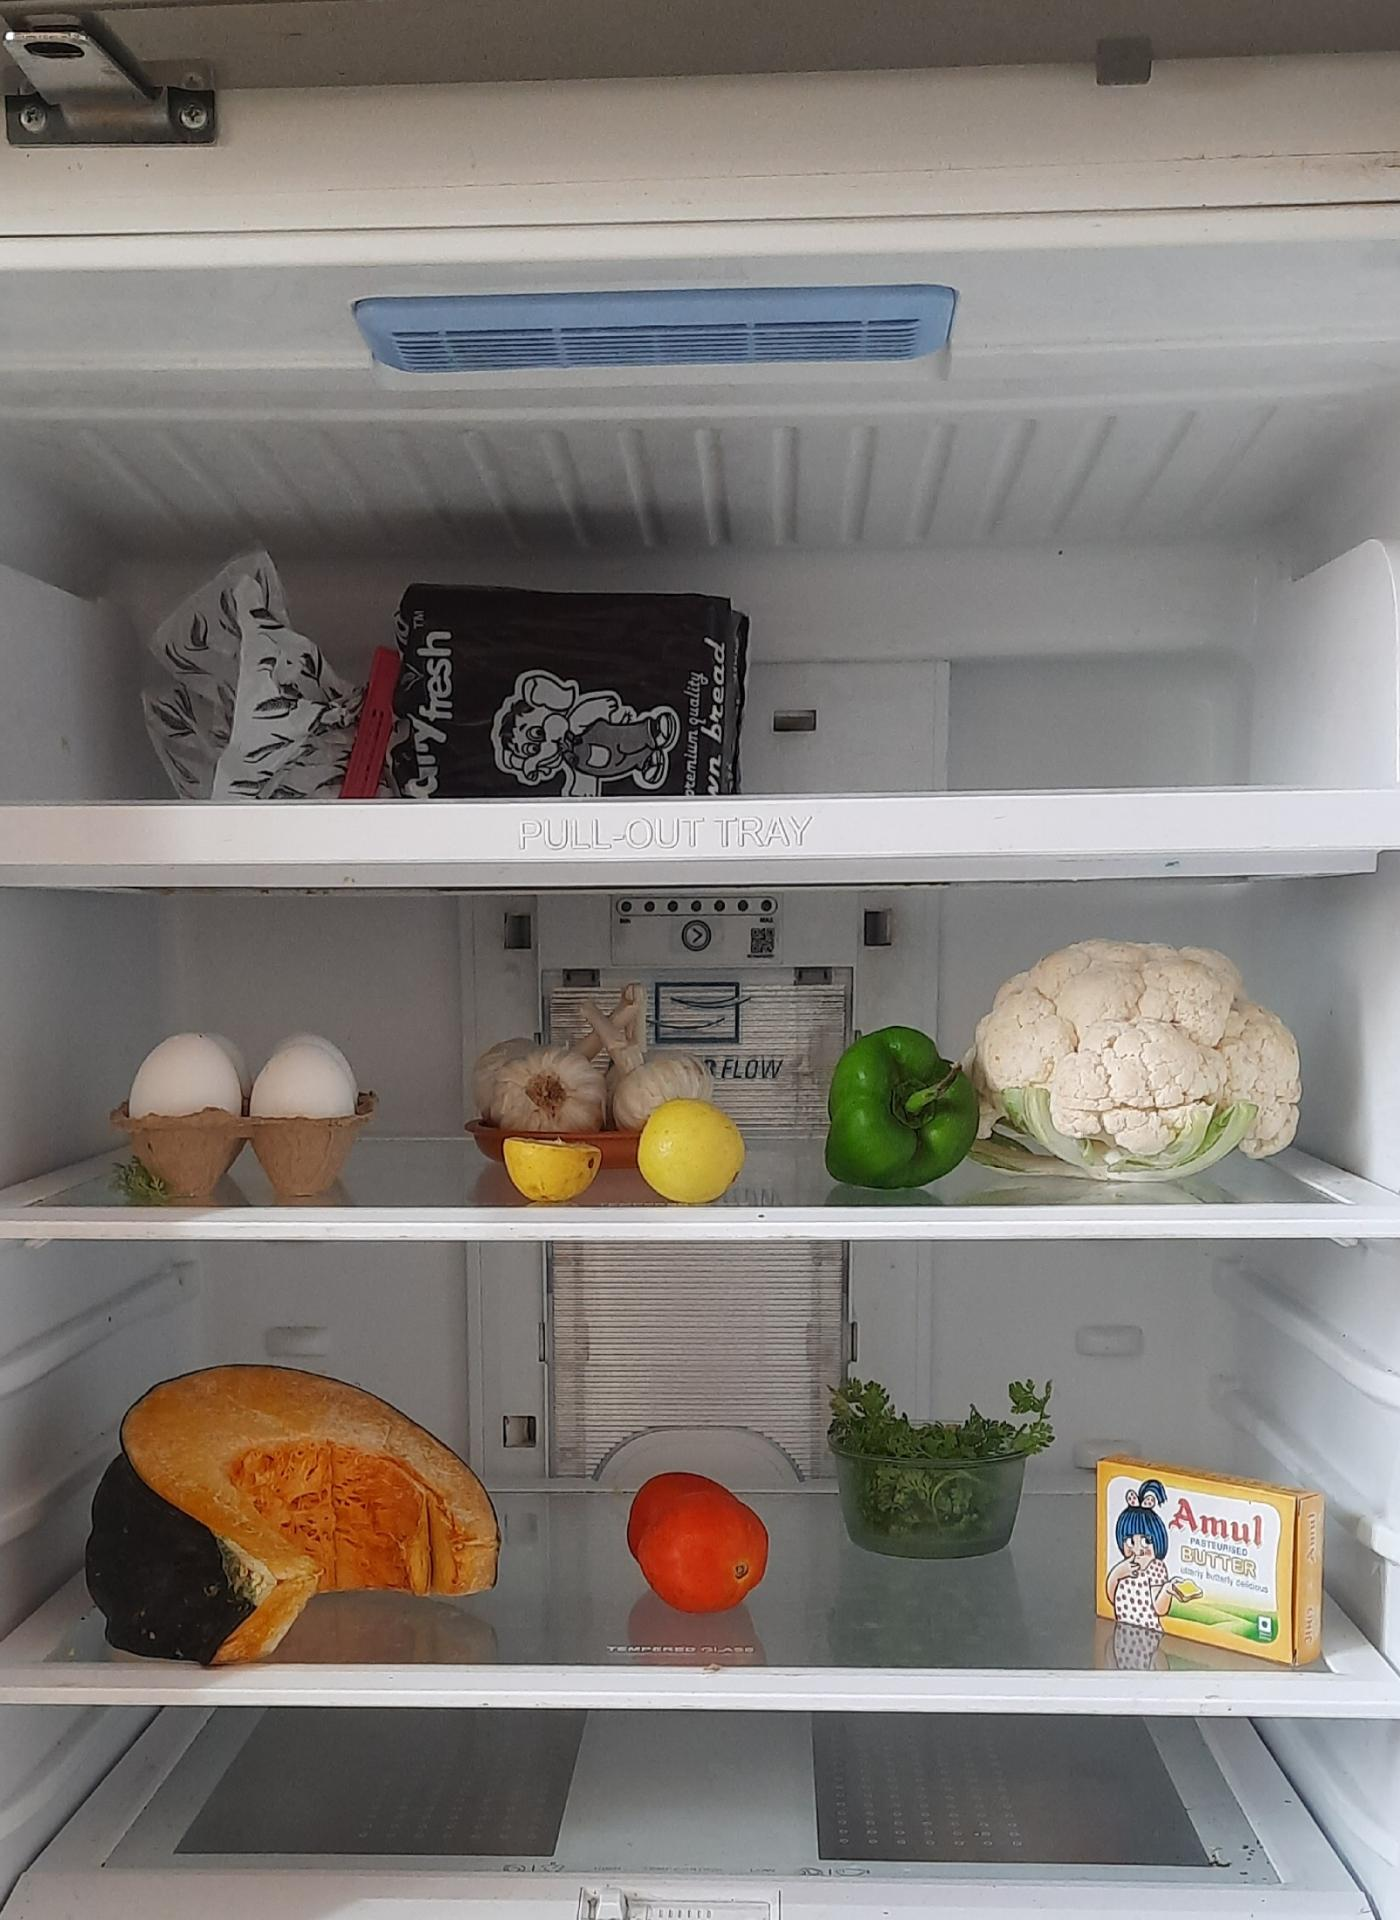bread: (182, 541, 751, 795)
butter: (1096, 1456, 1311, 1673)
capsicum: (827, 1021, 975, 1185)
cauliflower: (984, 938, 1311, 1179)
coriander: (841, 1373, 1041, 1555)
egg: (127, 1023, 353, 1194)
garlic: (494, 988, 751, 1131)
lemon: (638, 1087, 742, 1209), (507, 1140, 629, 1218)
pumpkin: (95, 1345, 501, 1637)
tomato: (634, 1461, 772, 1608)
